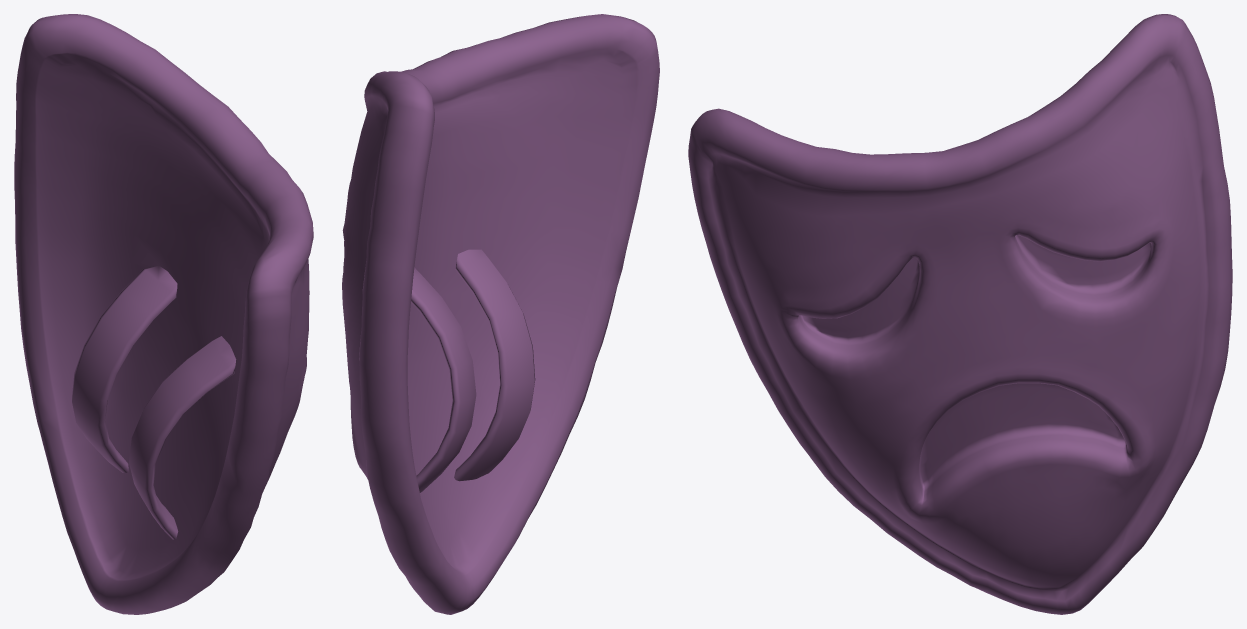
The model's file is SM_Menu_TragedyMask.fbx.
3 renders of one model, left to right at view 1: azimuth 30°, elevation 25°; view 2: azimuth 150°, elevation 25°; view 3: azimuth 270°, elevation 25°, orthographic. The views are drawn at different scales.
Parts seen in each view (by area): view 1: Mask_Sad.001_Baked; view 2: Mask_Sad.001_Baked; view 3: Mask_Sad.001_Baked.
Part boxes in pixels (x1,y1,x2,y2): Mask_Sad.001_Baked: [14, 14, 313, 614]; Mask_Sad.001_Baked: [342, 14, 659, 614]; Mask_Sad.001_Baked: [688, 14, 1232, 614].
Size of the model in its own units: 8.83 by 28.17 by 33.76.
